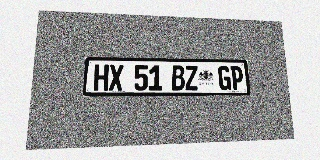1: (149, 65, 162, 90)
5: (134, 65, 148, 91)
B: (171, 65, 185, 90)
G: (218, 66, 231, 90)
H: (93, 64, 109, 91)
P: (230, 66, 244, 90)
X: (109, 64, 123, 91)
Z: (185, 65, 198, 90)
